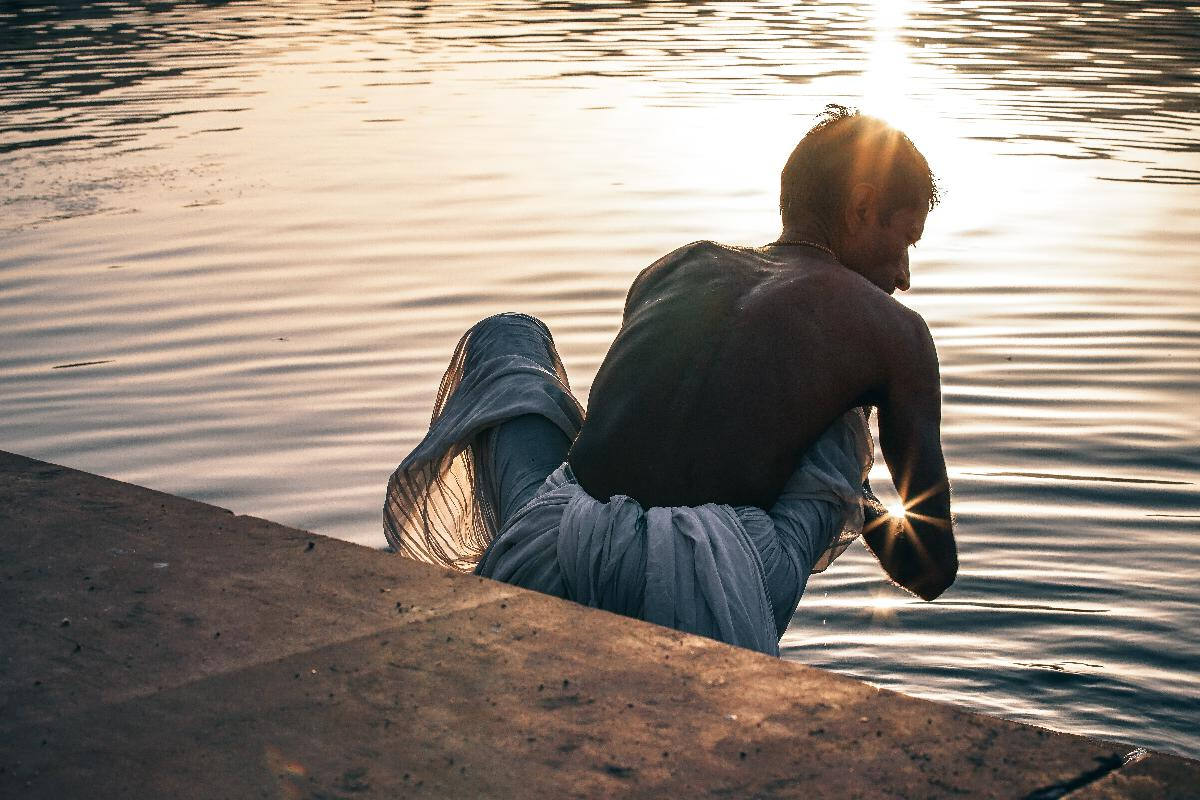Person: (430, 112, 963, 667)
